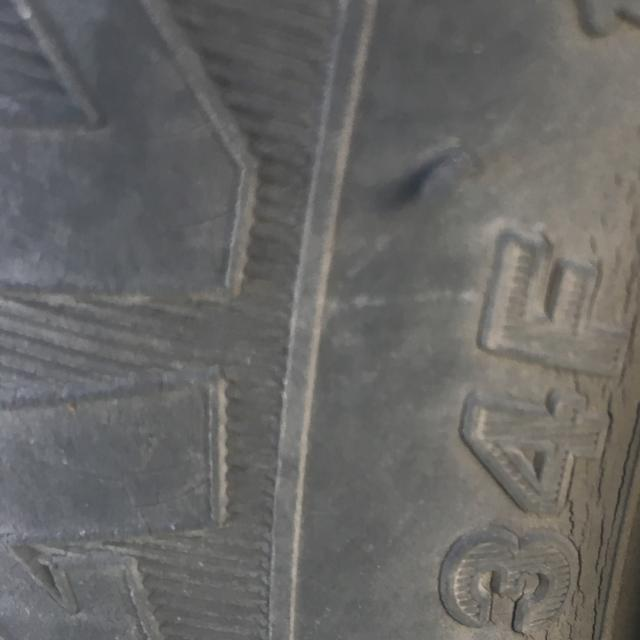Cracks: (448, 135, 640, 640)
